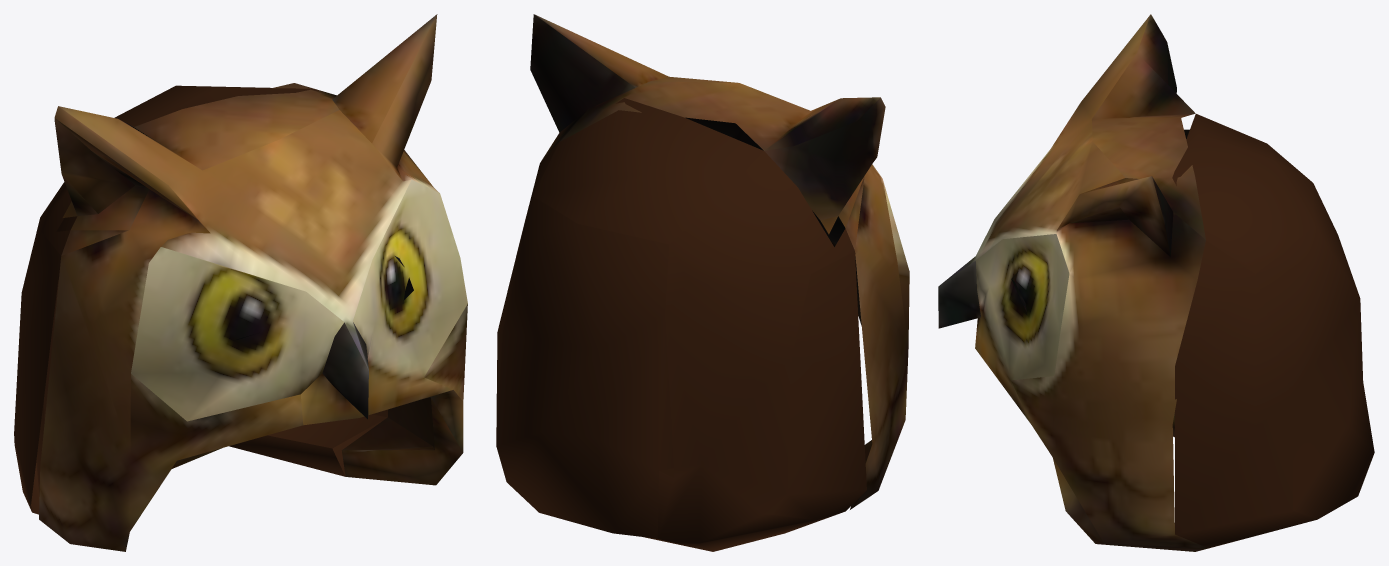
The model's file is owl.glb.
The picture shows the model from 3 angles, left to right: view 1: azimuth 30°, elevation 25°; view 2: azimuth 150°, elevation 25°; view 3: azimuth 270°, elevation 25°; orthographic projection. The views are drawn at different scales.
Parts seen in each view (by area): view 1: geometry_0; view 2: geometry_0; view 3: geometry_0.
Boxes of the visible parts, left/top/right/bottom form: geometry_0: left=14, top=14, right=467, bottom=551; geometry_0: left=496, top=14, right=909, bottom=551; geometry_0: left=938, top=14, right=1374, bottom=551.
Size of the model in its own units: 0.4707 by 0.5353 by 0.5212.
Materials: 2 (1 with a texture image).
